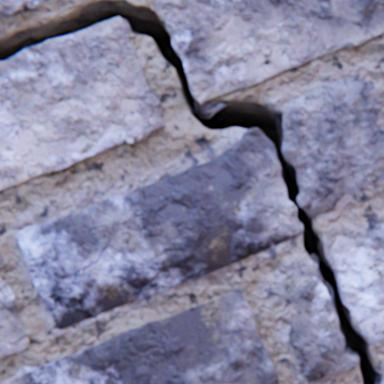brick: (0, 18, 166, 191), (2, 287, 278, 383), (155, 0, 383, 104), (0, 274, 30, 358), (0, 0, 48, 20)
broken_brick: (18, 129, 302, 328), (273, 75, 383, 218), (268, 261, 357, 382), (328, 224, 383, 344), (381, 372, 383, 383)
crack: (0, 0, 382, 383), (67, 264, 91, 286), (50, 296, 60, 311)
